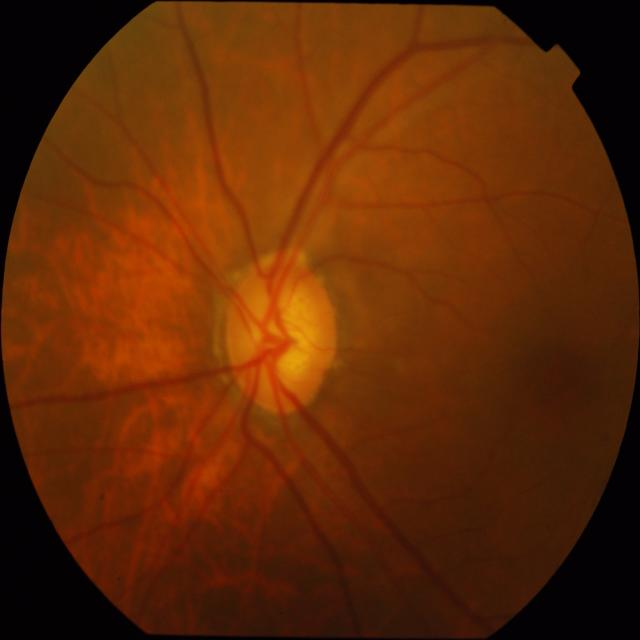OC: (247, 280, 320, 383)
OD: (225, 260, 338, 414)
